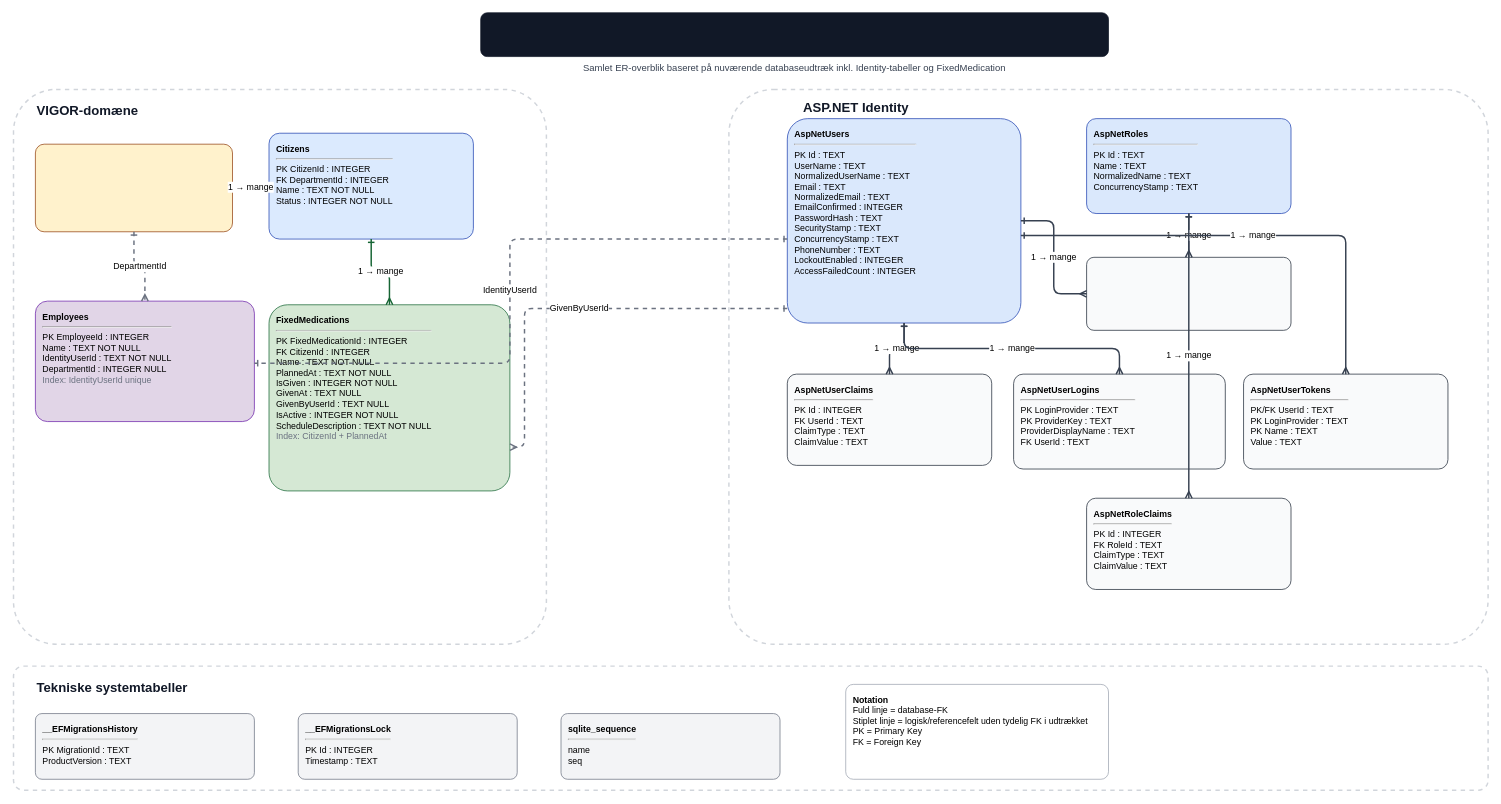
Some shapes in this 1501 by 804 pixel diagram are drawn without their labels. The shapes that lost their labels are listed below. From the top down, each one's box as (x1, y1, x2, y2) in pixels, then its label:
(480, 12, 1109, 57): ER-diagram – VIGOR database
(35, 143, 233, 232): Departments PK DepartmentId : INTEGER Name : TEXT NOT NULL
(1086, 257, 1291, 330): AspNetUserRoles PK/FK UserId : TEXT PK/FK RoleId : TEXT
